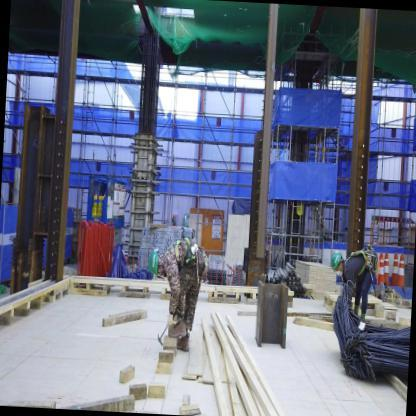safety-shoe: (162, 318, 193, 347)
